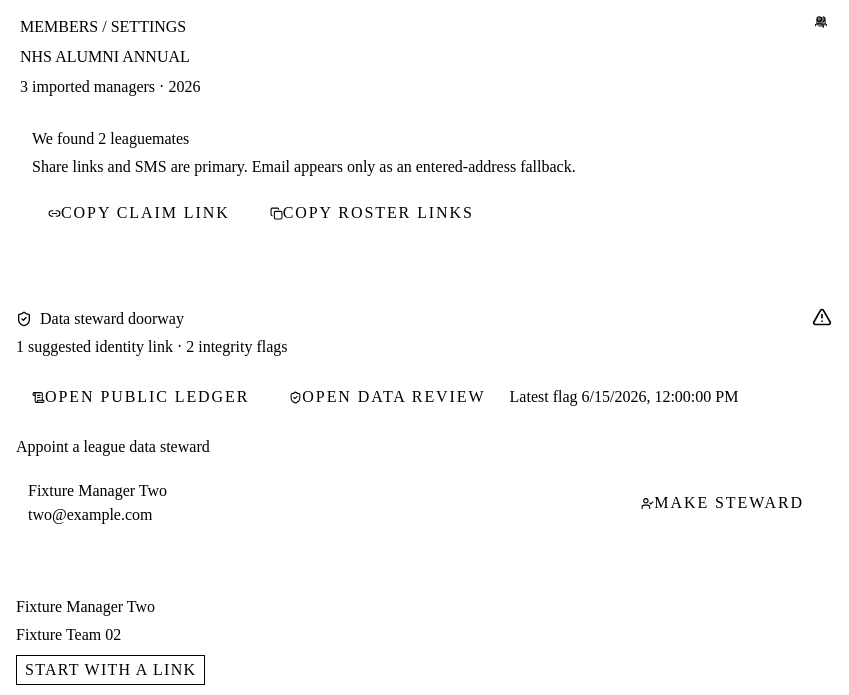
Test: invite view exposes the data steward doorway for commissioners
expect the text "Data steward doorway" is shown: met, box [16,310,184,327]
expect the text "1 suggested identity link · 2 integrity flags" is shown: met, box [16,335,288,359]
Click the button "Make steward". click: coordinates (723, 503)
box: [625,479,820,527]
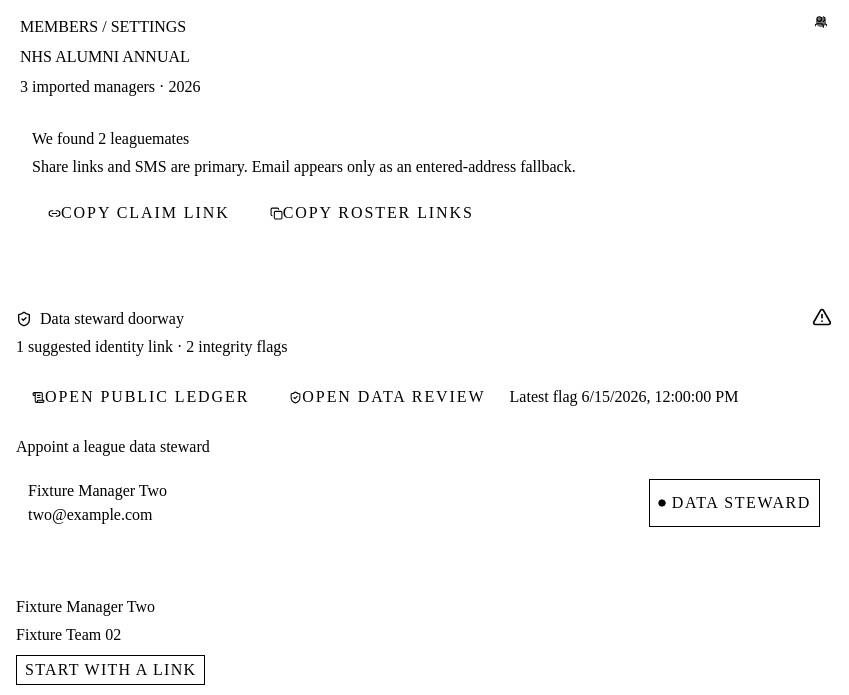
expect the text "Data steward" is shown: met, box [672,495,811,511]
